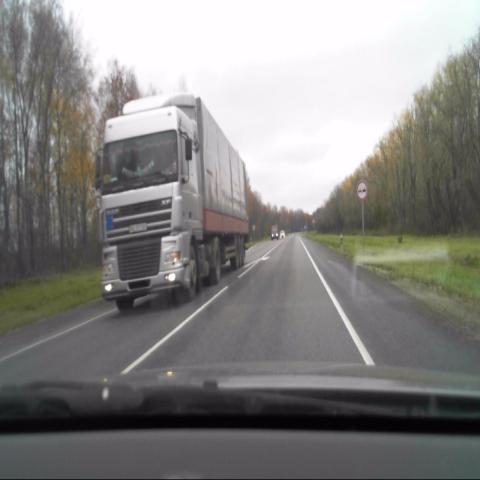3_20: (356, 180, 368, 200)
